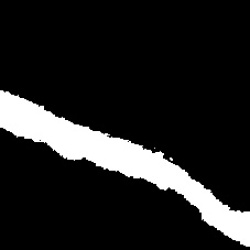crack: (1, 90, 246, 246)
